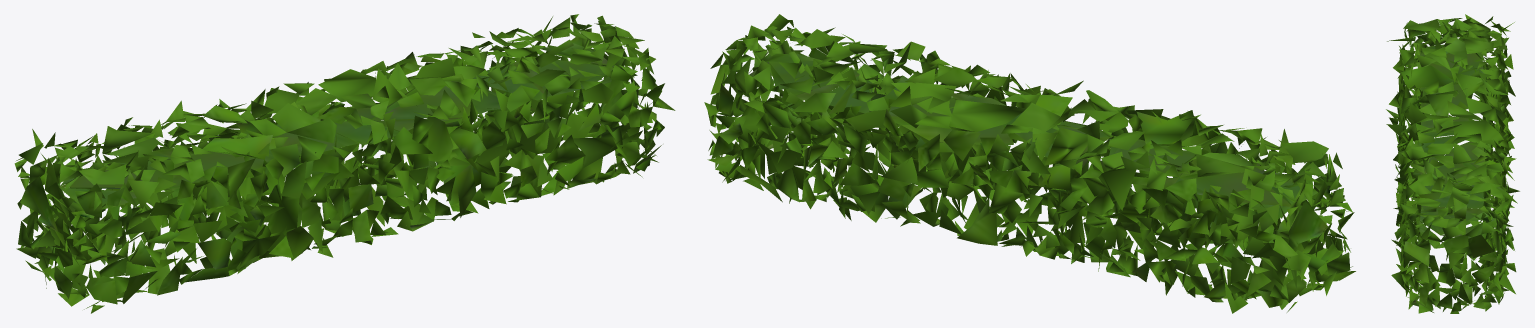
The model's file is getkong-hecke-lo.glb.
The picture shows the model from 3 angles, left to right: view 1: azimuth 30°, elevation 25°; view 2: azimuth 150°, elevation 25°; view 3: azimuth 270°, elevation 25°; orthographic projection. The views are drawn at different scales.
Parts seen in each view (by area): view 1: output_unwrapped; view 2: output_unwrapped; view 3: output_unwrapped.
Boxes of the visible parts, x1,y1,x2,y2 form: output_unwrapped: [14, 14, 675, 313]; output_unwrapped: [704, 14, 1355, 313]; output_unwrapped: [1386, 14, 1519, 313].
Size of the model in its own units: 1.98 by 0.4569 by 0.5078.
1 material, 1 textured.
